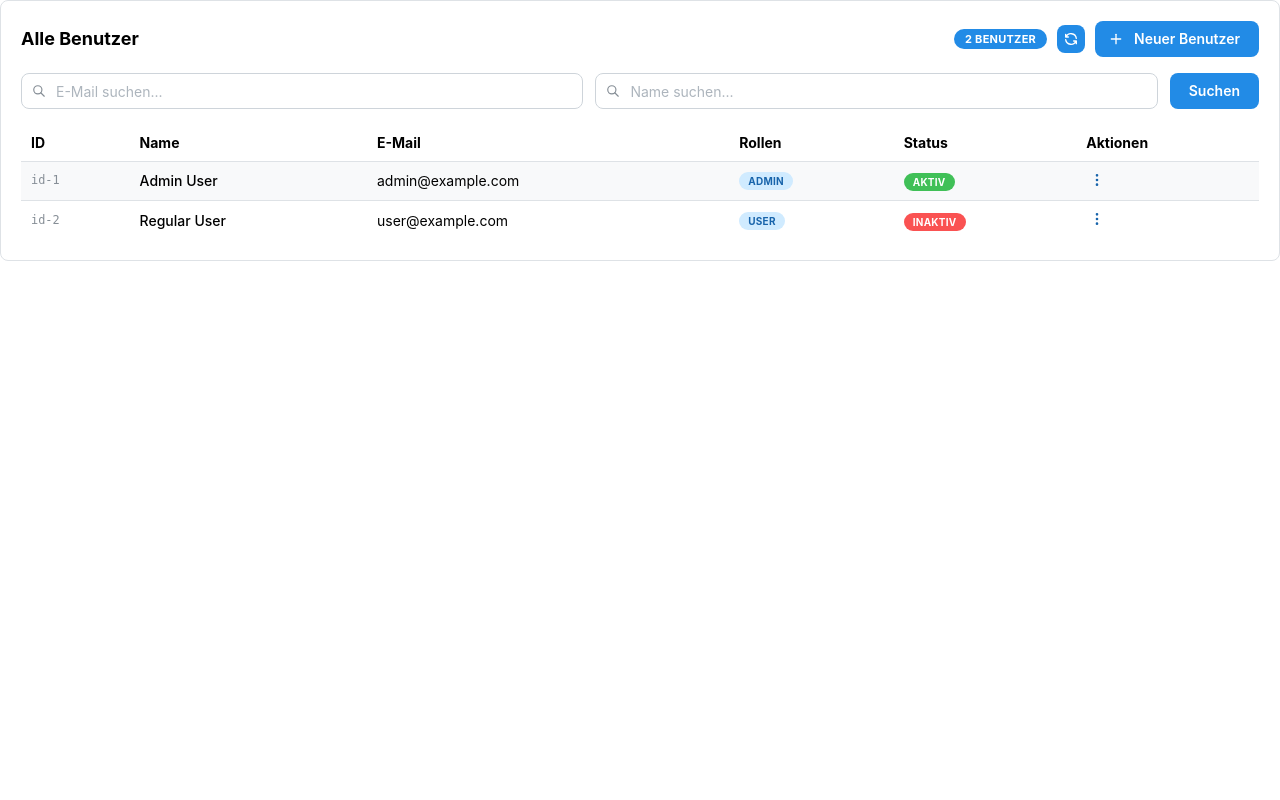
Test: UserList › zeigt die Backend-Meldung, wenn das Löschen fehlschlägt
The width and height of the screenshot is (1280, 800).
Check: the text "admin@example.com" is shown, box [377, 172, 519, 189]
What coordinates should you click on to do the following:
click the button without text in the row of "id-1"
I would click on:
 (1097, 180)
Its box is [1086, 169, 1108, 191].
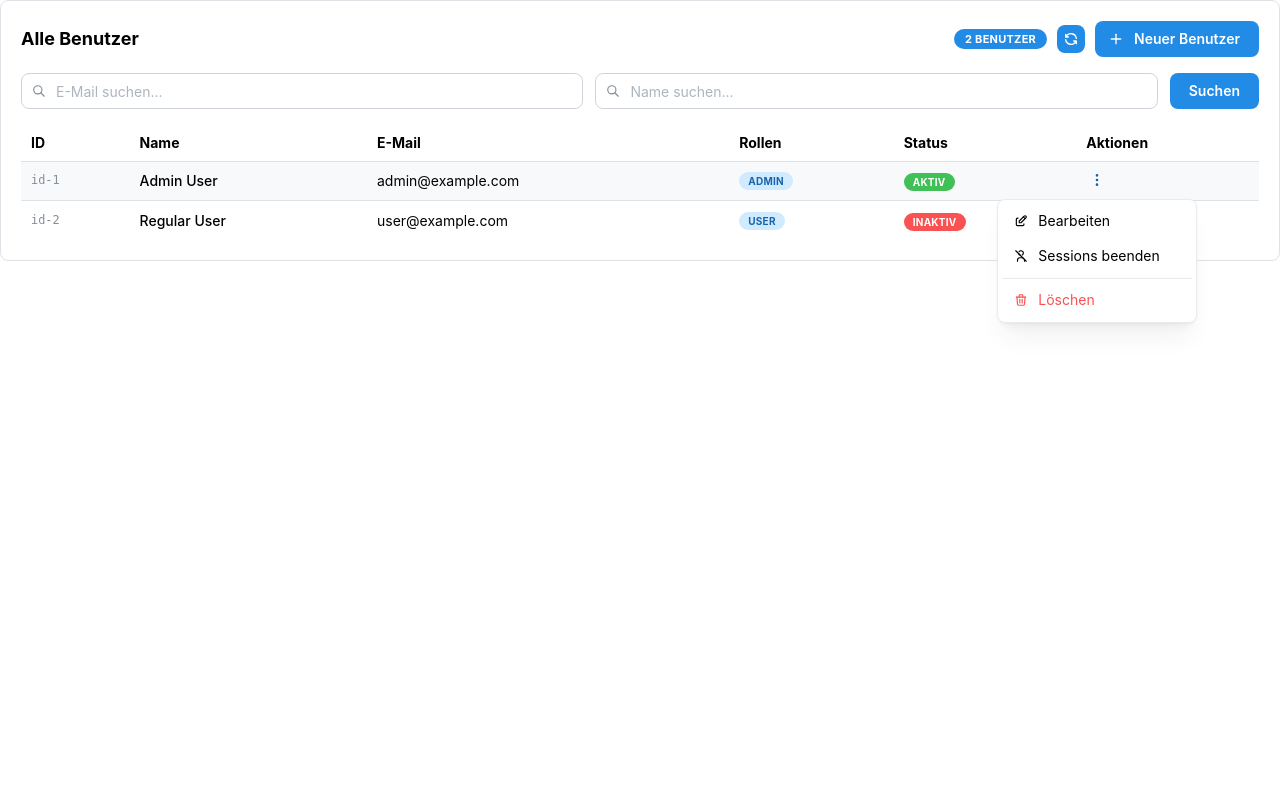
What coordinates should you click on to do the following:
click the menu item "Löschen"
I would click on:
 (1097, 300)
Its box is [1002, 283, 1192, 318].
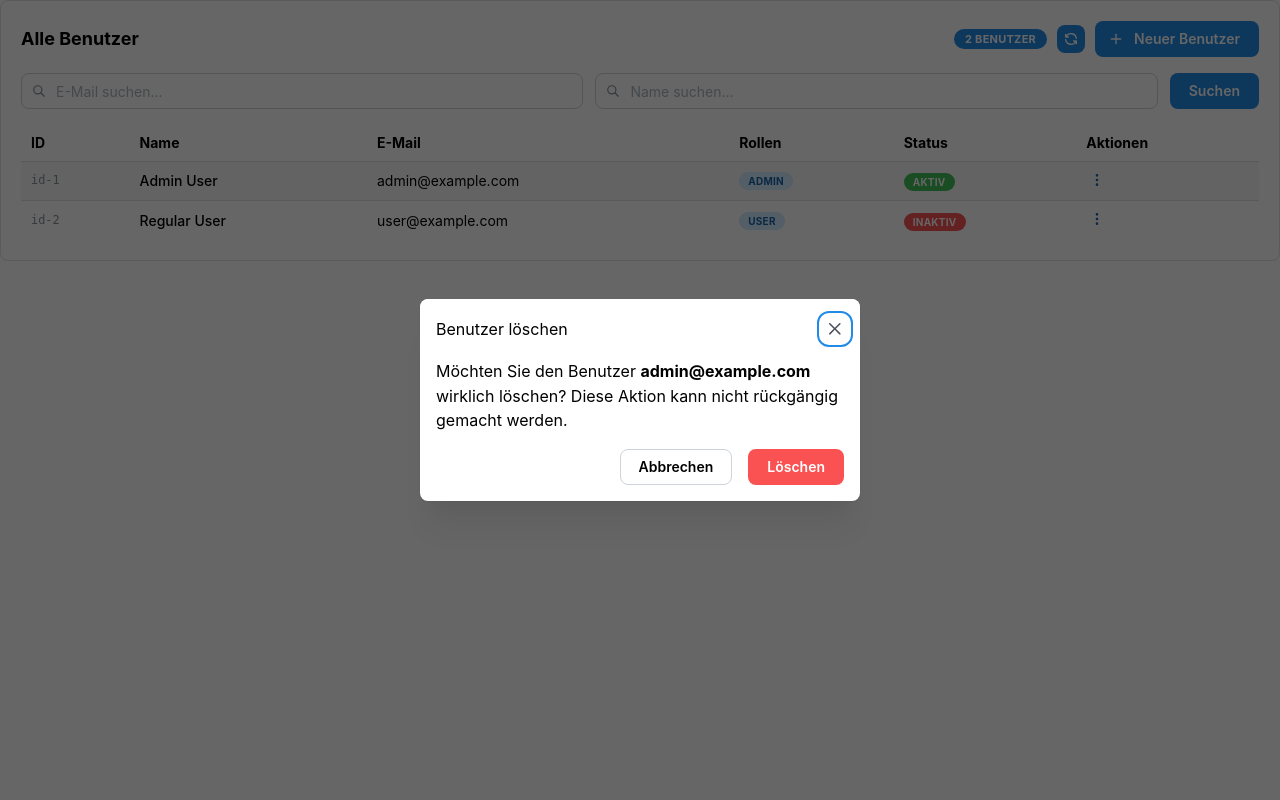
What coordinates should you click on to do the following:
click the button "Löschen"
I would click on:
 (796, 467)
Its box is [748, 449, 844, 485].
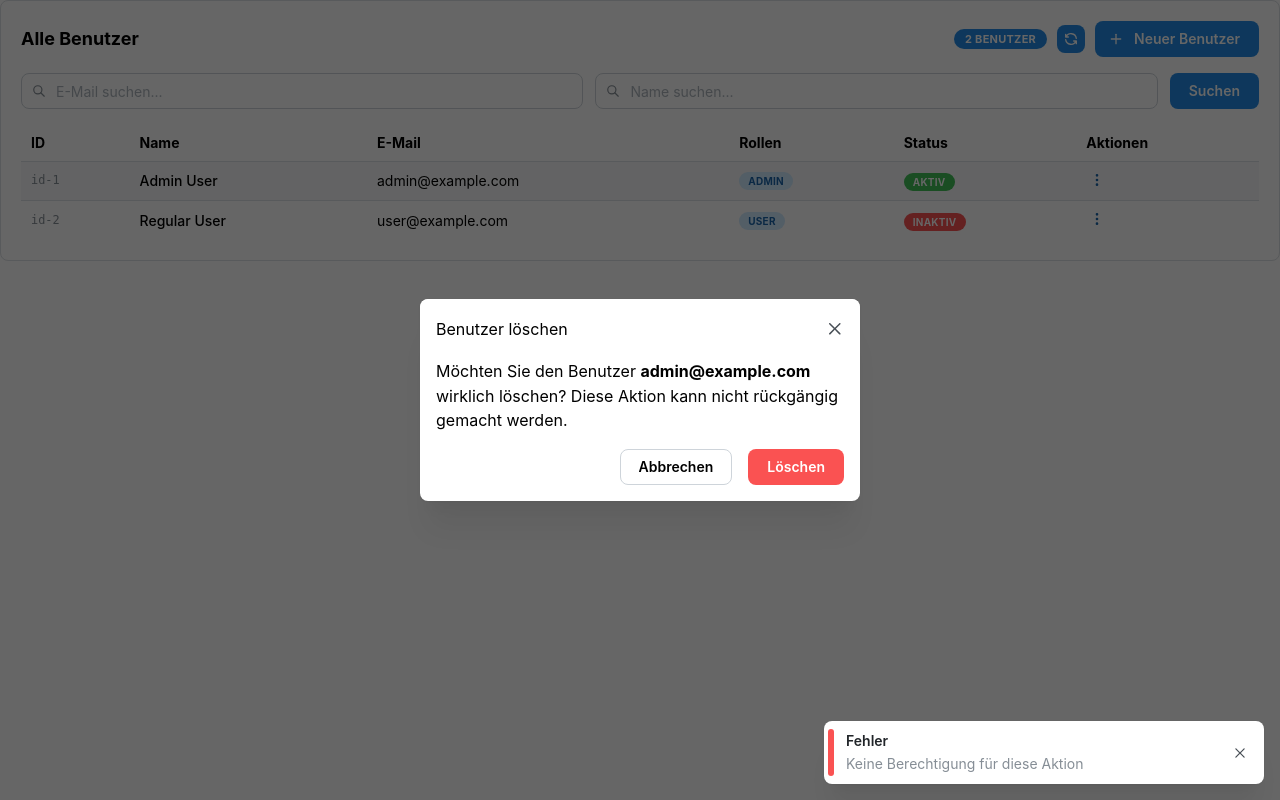
Check: the text "Keine Berechtigung für diese Aktion" is shown, box [846, 755, 1084, 772]
